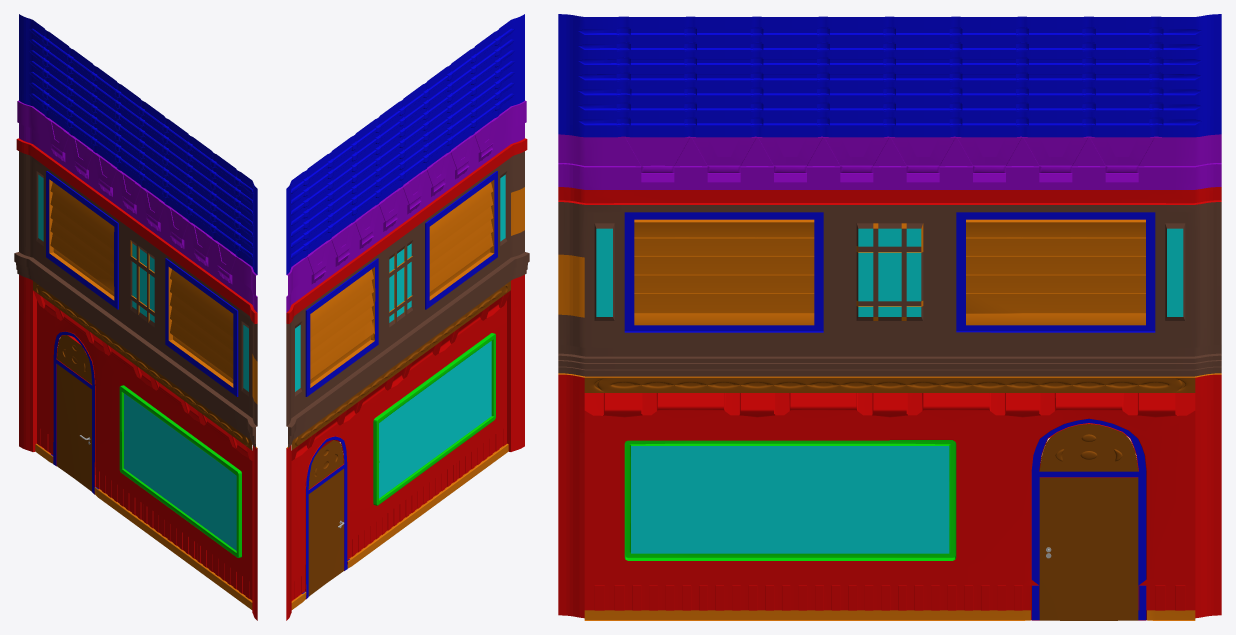
File: StreetShops_High.fbx
3 views of the same model, side by side, from view 1: azimuth 30°, elevation 25°; view 2: azimuth 150°, elevation 25°; view 3: azimuth 270°, elevation 25° (orthographic). The views are drawn at different scales.
Visible parts, largest first — view 1: help:StreetShops, help:StreetShops_lowerStrip, help:StreetShops_doorTop; view 2: help:StreetShops, help:StreetShops_lowerStrip, help:StreetShops_doorTop; view 3: help:StreetShops, help:StreetShops_lowerStrip, help:StreetShops_doorTop.
Boxes of the visible parts, x1,y1,x2,y2 form: help:StreetShops: (14, 14, 257, 620); help:StreetShops_lowerStrip: (33, 281, 252, 450); help:StreetShops_doorTop: (57, 335, 92, 384); help:StreetShops: (286, 14, 529, 620); help:StreetShops_lowerStrip: (291, 281, 510, 450); help:StreetShops_doorTop: (308, 440, 343, 489); help:StreetShops: (558, 14, 1221, 620); help:StreetShops_lowerStrip: (584, 377, 1195, 392); help:StreetShops_doorTop: (1039, 424, 1138, 471).
Bounding box in the file's own units: 29.1 × 800 × 800.
